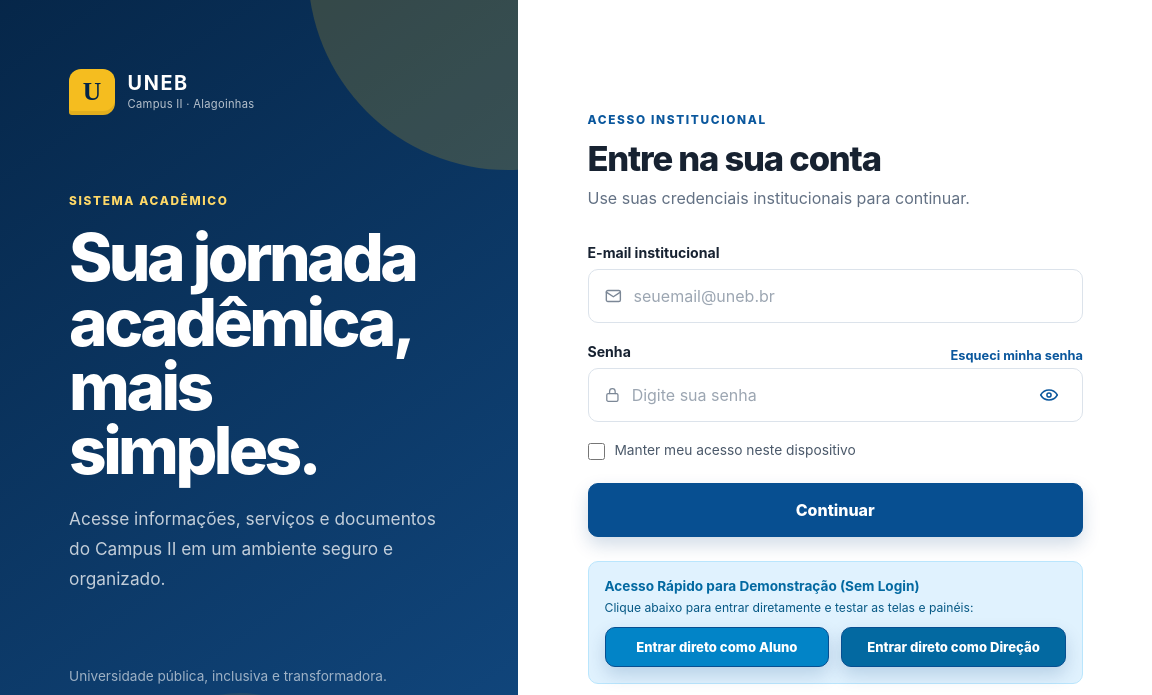
Test case: fluxo de autenticação › mostra erro quando as credenciais são inválidas (401)
Check: the button "Continuar" is enabled, box x1=588 y1=483 x2=1083 y2=537
Type "aluno@uneb.br" into the field labelled "E-mail institucional". click: [850, 296]
box: x1=634 y1=271 x2=1067 y2=321
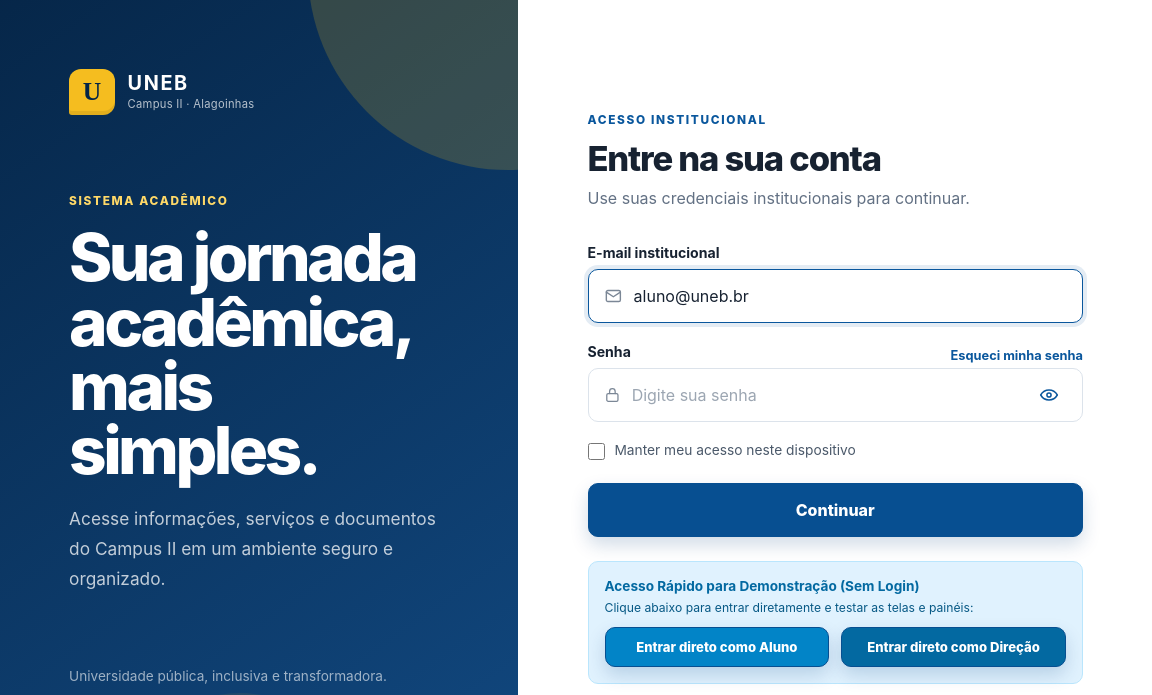
Type "senha-errada" into the password field labelled "Senha". click: [826, 395]
box: x1=632 y1=370 x2=1020 y2=420
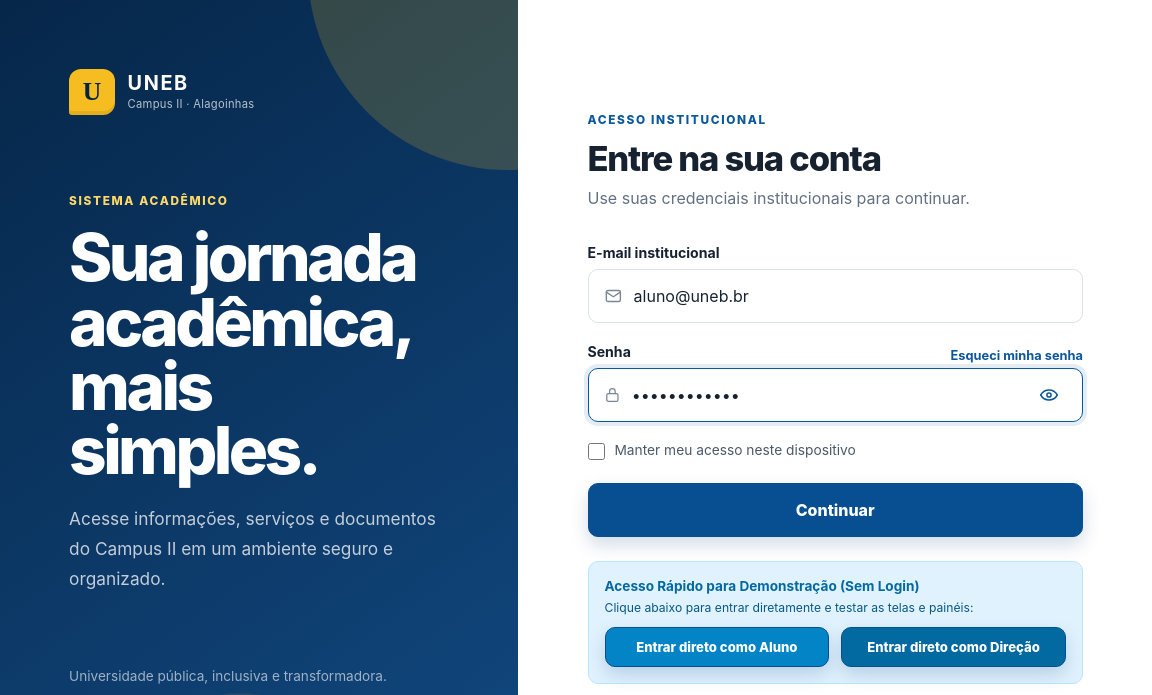
Click the button "Continuar". click: [835, 510]
box: x1=588 y1=483 x2=1083 y2=537
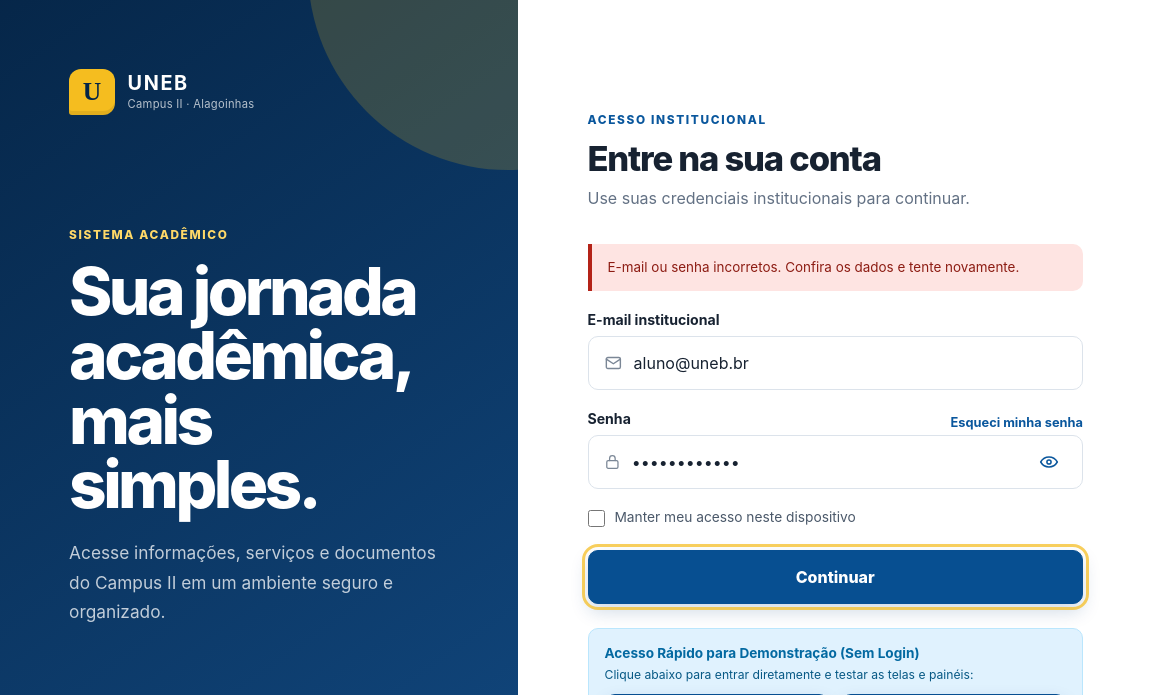
Check: the text "E-mail ou senha incorretos. Confira os dados e tente novamente." is shown, box x1=588 y1=244 x2=1083 y2=291
